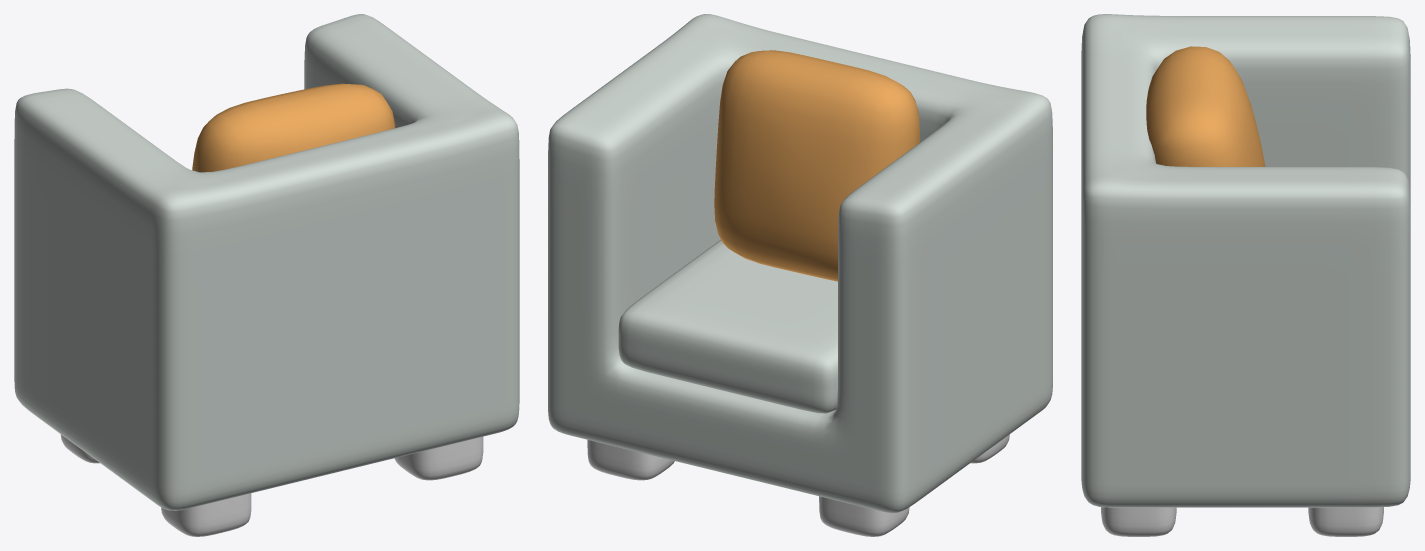
Rendered from short_sofa.fbx.
The picture shows the model from 3 angles, left to right: view 1: azimuth 30°, elevation 25°; view 2: azimuth 150°, elevation 25°; view 3: azimuth 270°, elevation 25°; orthographic projection. The views are drawn at different scales.
Parts seen in each view (by area): view 1: Sofa.002, Cube.004, Sofa.003; view 2: Sofa.002, Cube.004, Sofa.003; view 3: Sofa.002, Cube.004, Sofa.003.
Part boxes in pixels (bbox=[...]): Sofa.002: bbox=[14, 14, 519, 510]; Cube.004: bbox=[192, 83, 395, 172]; Sofa.003: bbox=[60, 434, 483, 536]; Sofa.002: bbox=[548, 14, 1052, 513]; Cube.004: bbox=[714, 50, 920, 281]; Sofa.003: bbox=[587, 434, 1009, 536]; Sofa.002: bbox=[1081, 14, 1410, 507]; Cube.004: bbox=[1146, 46, 1265, 166]; Sofa.003: bbox=[1101, 507, 1383, 536].
Size of the model in its own units: 117 by 118 by 90.
